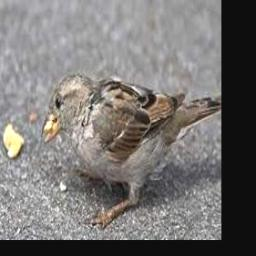Sparrow: (40, 73, 221, 228)
